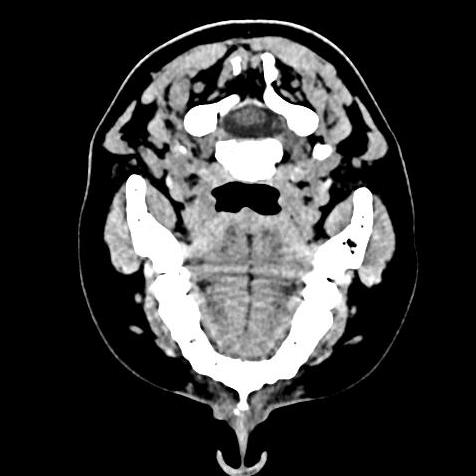Normal_Brain: (27, 18, 444, 476)
